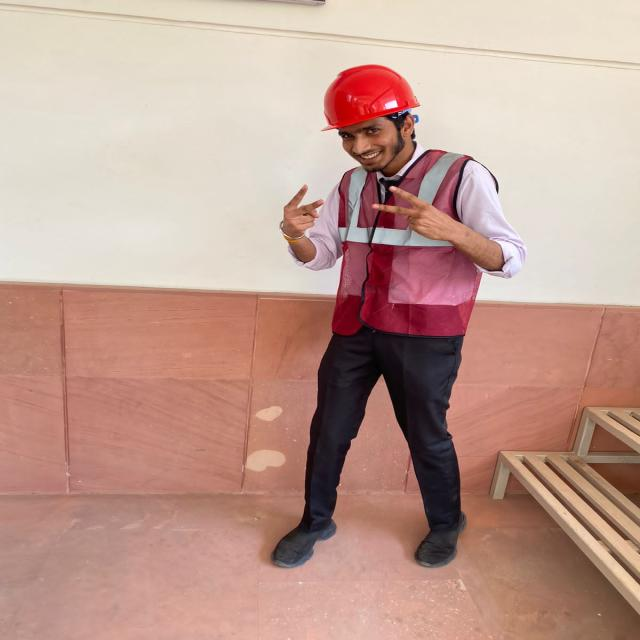safe: (284, 64, 474, 567)
